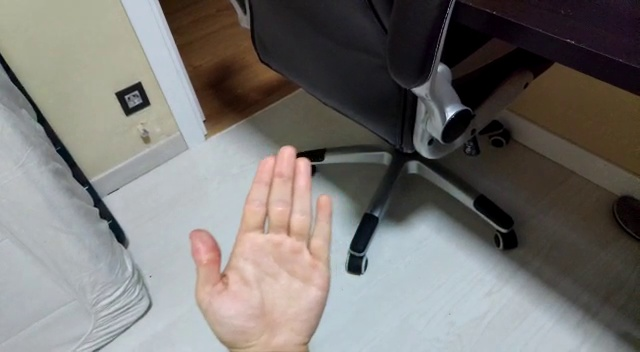Palm: (188, 144, 337, 352)
